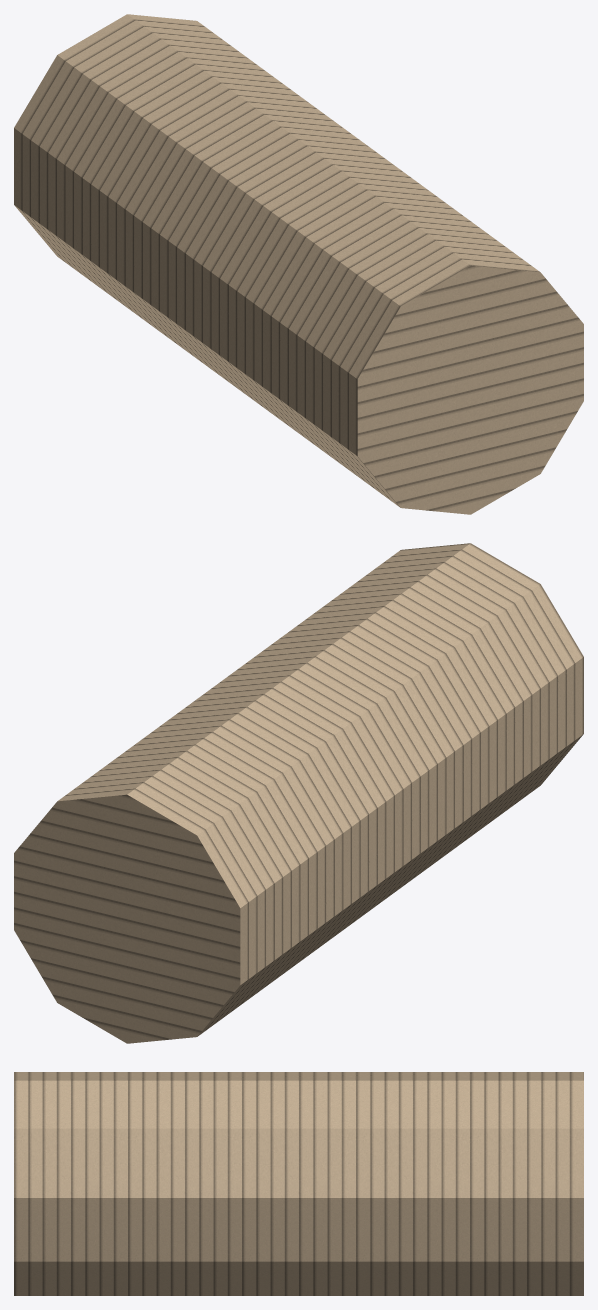
File: vehicle_boat_pontoon.glb
The picture shows the model from 3 angles, top to bottom: view 1: azimuth 30°, elevation 25°; view 2: azimuth 150°, elevation 25°; view 3: azimuth 270°, elevation 25°; orthographic projection. The views are drawn at different scales.
Parts seen in each view (by area): view 1: vehicle_boat_pontoon-col; view 2: vehicle_boat_pontoon-col; view 3: vehicle_boat_pontoon-col.
Boxes of the visible parts, box(x1,y1,x2,y2) form: vehicle_boat_pontoon-col: box(14, 14, 583, 514); vehicle_boat_pontoon-col: box(14, 543, 583, 1043); vehicle_boat_pontoon-col: box(14, 1072, 583, 1295).
Size of the model in its own units: 1.9 by 2 by 5.
1 material, 1 textured.
